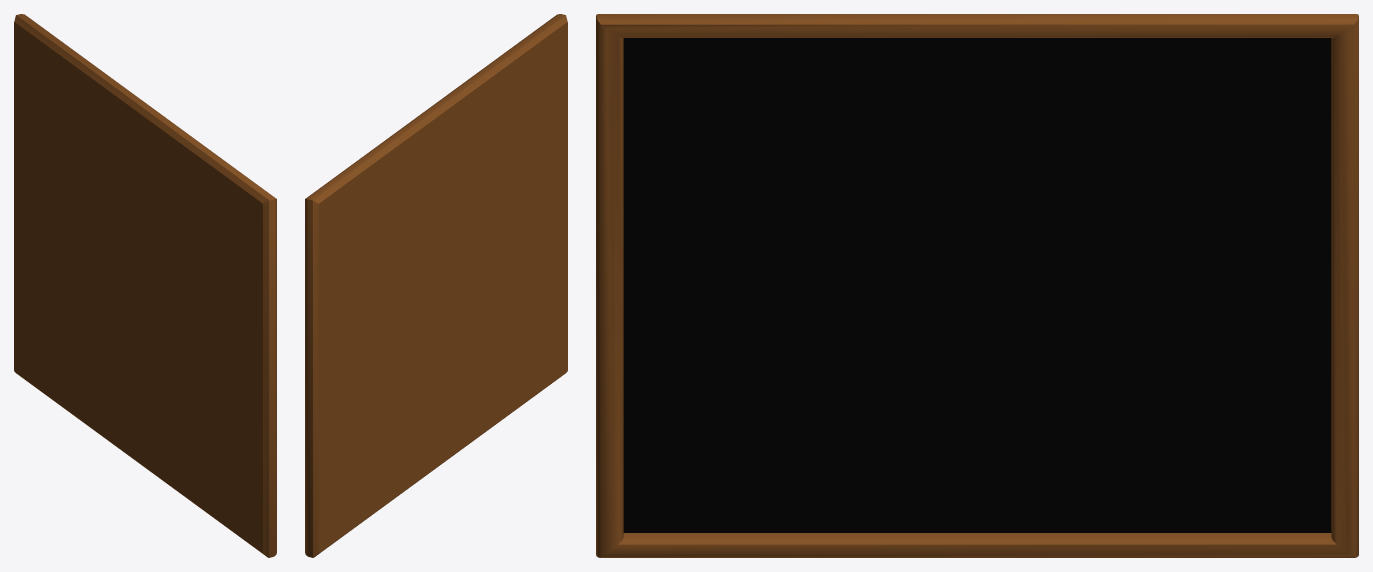
The model's file is Tavla.fbx.
The picture shows the model from 3 angles, left to right: view 1: azimuth 30°, elevation 25°; view 2: azimuth 150°, elevation 25°; view 3: azimuth 270°, elevation 25°; orthographic projection. The views are drawn at different scales.
Visible parts, largest first — view 1: Cube; view 2: Cube; view 3: Cube.
Boxes of the visible parts, x1,y1,x2,y2 form: Cube: [14, 14, 276, 557]; Cube: [305, 14, 567, 557]; Cube: [596, 14, 1358, 557].
Bounding box in the file's own units: 16.75 × 404 × 518.
